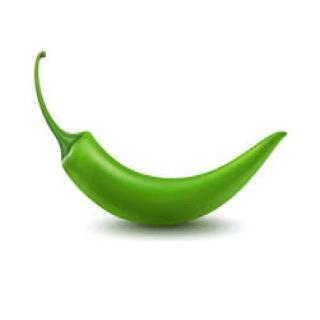Cabai Hijau: (63, 135, 293, 235)
